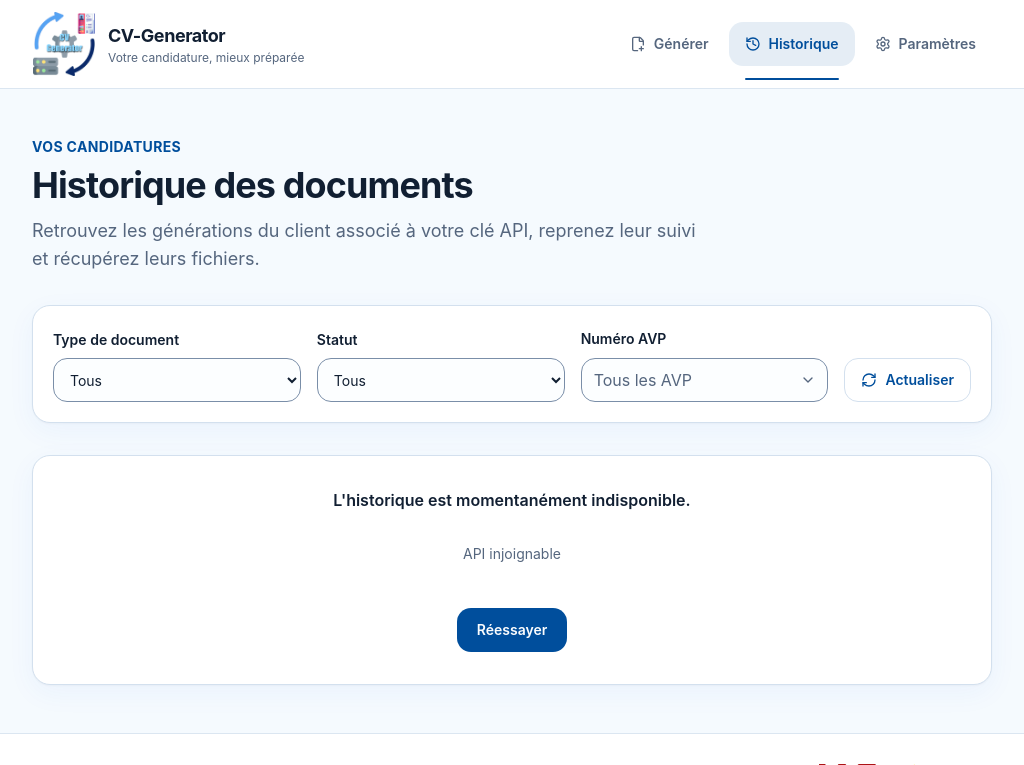
Test case: historique documentaire › affiche une erreur réseau puis permet une nouvelle tentative
Expected: the text "API injoignable" is shown, [463, 545, 561, 562]
Step 1. Click the button "Réessayer" → (512, 630), box [457, 608, 567, 652]
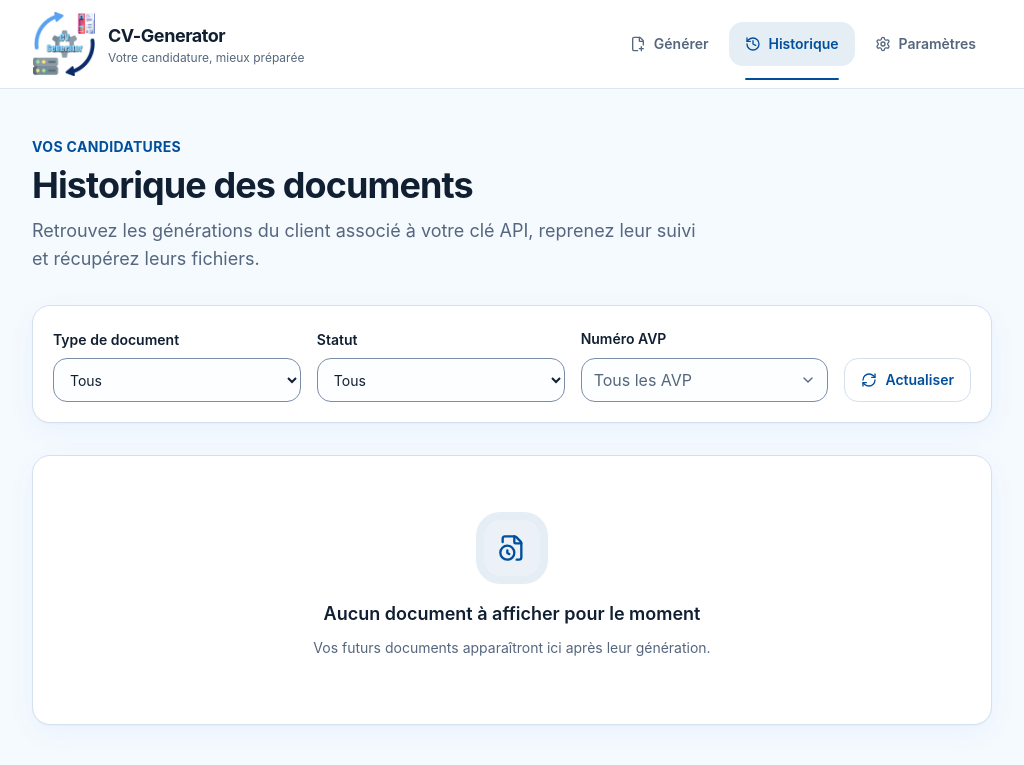
Expected: the heading "Aucun document à afficher pour le moment" is shown, [324, 600, 700, 628]
